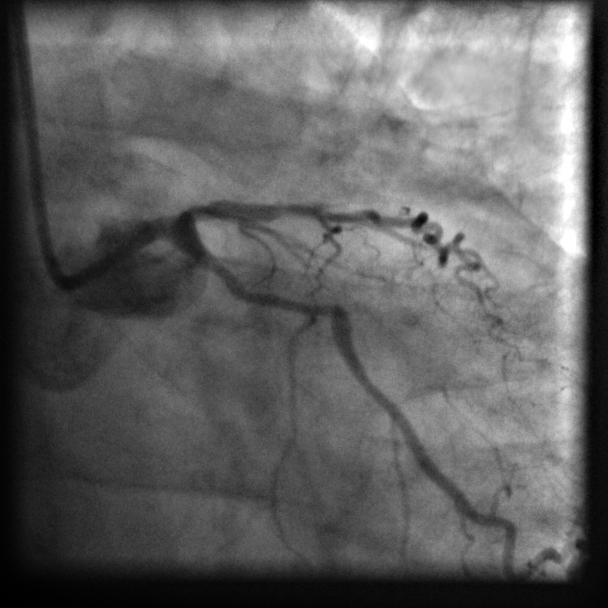Stenosis: (246, 282, 334, 327)
